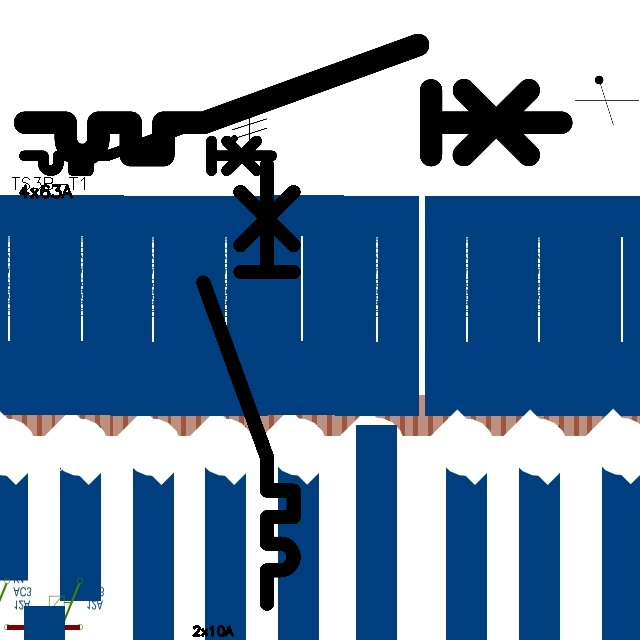interruptor_termomagnetico: (11, 31, 575, 169), (192, 154, 305, 615), (18, 114, 278, 177)
